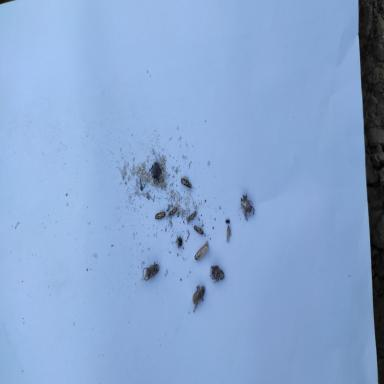pbw: (193, 241, 210, 261), (186, 208, 197, 222), (168, 203, 179, 217), (180, 177, 192, 189), (193, 224, 204, 235), (225, 224, 231, 244), (154, 210, 166, 220)
